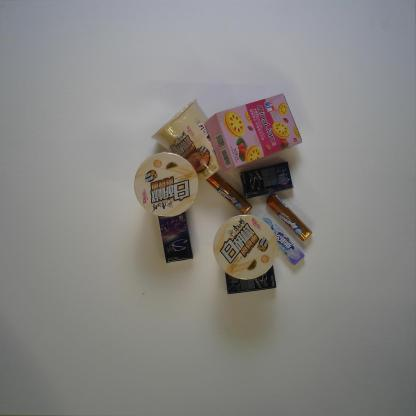Candy: (260, 214, 305, 266), (266, 194, 313, 242), (206, 171, 252, 215)
Dessert: (204, 94, 303, 174)
Gum: (240, 160, 294, 200), (158, 211, 194, 263), (225, 264, 277, 294)
Instant Noodles: (150, 98, 226, 182), (213, 213, 278, 281), (134, 151, 198, 217)
